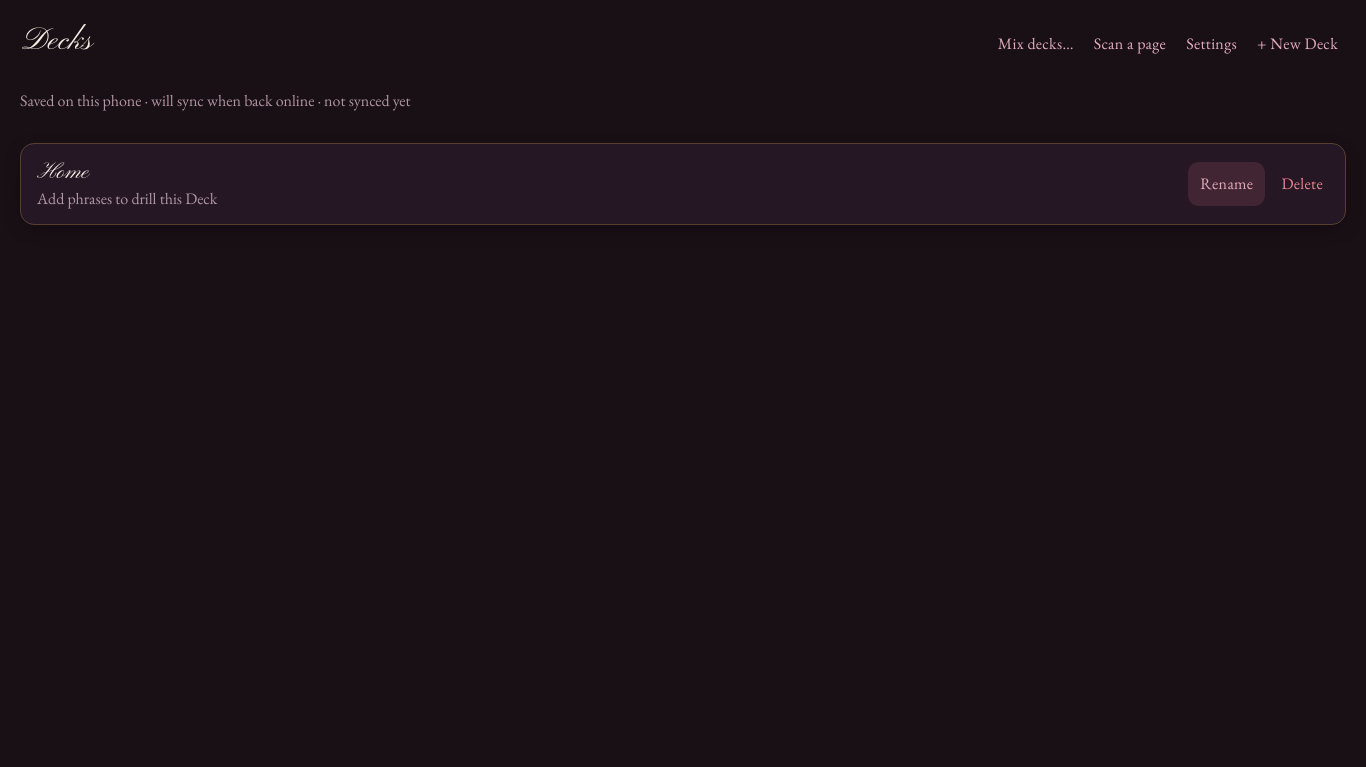
it: App wired to the backup age (T031) › says nothing has ever been backed up when neither has ever happened
The width and height of the screenshot is (1366, 767).
Click the button with test id "open-settings": (1212, 43) [1178,21,1245,65]
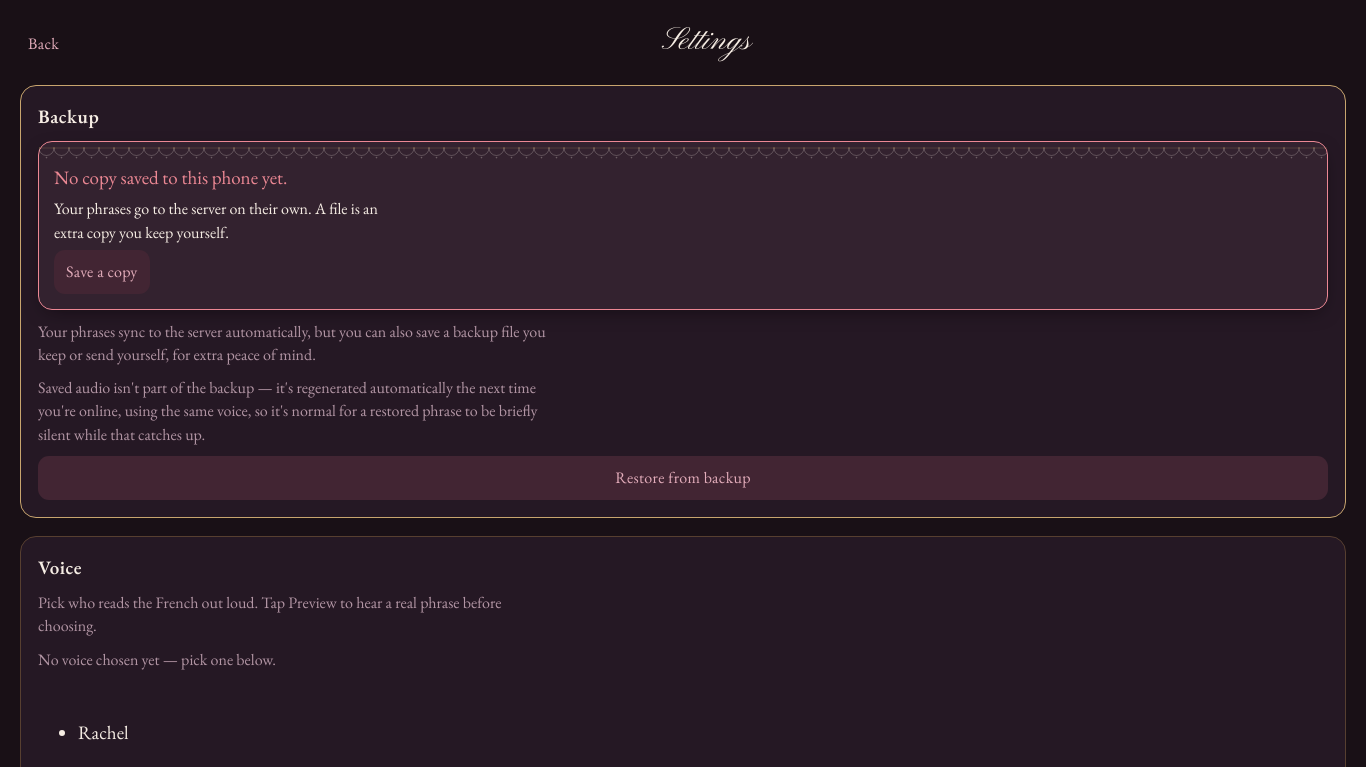
Expected: the element with test id "backup-status" shows "No copy saved to this phone yet", [54,165,288,190]
